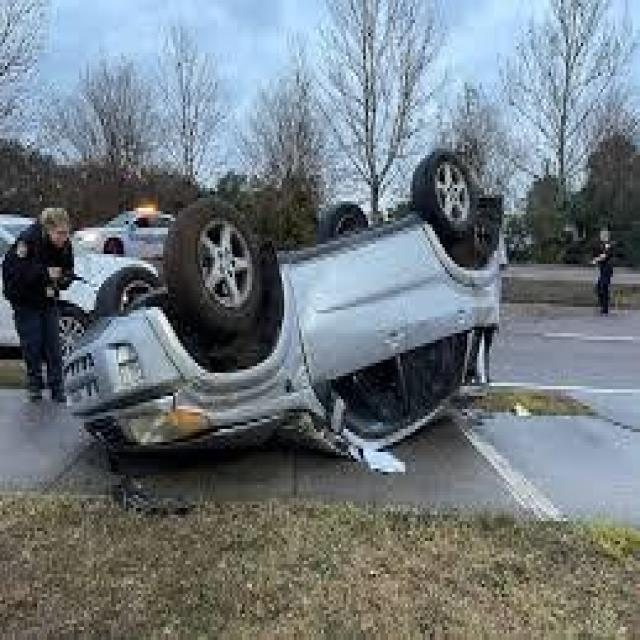accident: (57, 144, 506, 480)
